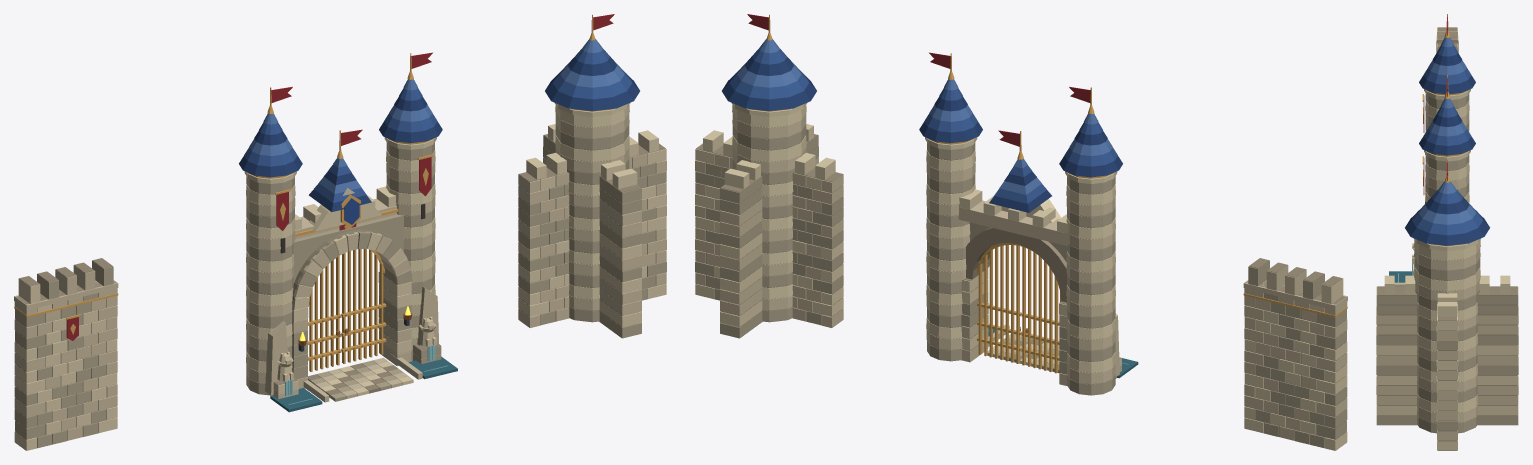
File: muralhas-nivel-10.glb
The picture shows the model from 3 angles, left to right: view 1: azimuth 30°, elevation 25°; view 2: azimuth 150°, elevation 25°; view 3: azimuth 270°, elevation 25°; orthographic projection. The views are drawn at different scales.
Visible parts, largest first — view 1: gate_10_ded0ad, tower_10_ded0ad, gate_10_b4a98f, gate_10_cfc1a3, tower_10_cfc1a3, tower_10_b4a98f, wall_10_cfc1a3, wall_10_b4a98f, wall_10_ded0ad, right_10_dba85a, gate_10_26406e, gate_10_9a8d77 (+11 smaller); view 2: tower_10_ded0ad, tower_10_cfc1a3, tower_10_b4a98f, gate_10_ded0ad, gate_10_cfc1a3, gate_10_b4a98f, wall_10_cfc1a3, wall_10_b4a98f, wall_10_ded0ad, right_10_dba85a, gate_10_9a8d77, left_10_dba85a (+9 smaller); view 3: tower_10_cfc1a3, tower_10_ded0ad, tower_10_b4a98f, tower_10_9a8d77, gate_10_26406e, tower_10_26406e, gate_10_385a91, gate_10_ded0ad, tower_10_385a91, gate_10_b4a98f, gate_10_5274a7, tower_10_5274a7 (+5 smaller).
Part boxes in pixels (<box>): gate_10_ded0ad: <box>244,137,436,396</box>; tower_10_ded0ad: <box>518,102,666,327</box>; gate_10_b4a98f: <box>246,142,441,401</box>; gate_10_cfc1a3: <box>246,162,438,402</box>; tower_10_cfc1a3: <box>518,113,666,327</box>; tower_10_b4a98f: <box>518,124,666,338</box>; wall_10_cfc1a3: <box>14,265,118,440</box>; wall_10_b4a98f: <box>14,258,113,448</box>; wall_10_ded0ad: <box>14,278,117,450</box>; right_10_dba85a: <box>341,249,386,363</box>; gate_10_26406e: <box>239,96,442,211</box>; gate_10_9a8d77: <box>250,155,440,397</box>; tower_10_ded0ad: <box>695,102,843,327</box>; tower_10_cfc1a3: <box>695,113,843,327</box>; tower_10_b4a98f: <box>695,124,843,338</box>; gate_10_ded0ad: <box>925,137,1121,373</box>; gate_10_cfc1a3: <box>926,162,1121,386</box>; gate_10_b4a98f: <box>927,142,1115,395</box>; wall_10_cfc1a3: <box>1243,265,1347,440</box>; wall_10_b4a98f: <box>1248,258,1347,448</box>; wall_10_ded0ad: <box>1244,278,1347,450</box>; right_10_dba85a: <box>977,243,1021,363</box>; gate_10_9a8d77: <box>930,155,1120,395</box>; left_10_dba85a: <box>1020,245,1061,373</box>; tower_10_cfc1a3: <box>1376,248,1518,440</box>; tower_10_ded0ad: <box>1376,238,1518,450</box>; tower_10_b4a98f: <box>1376,257,1518,432</box>; tower_10_9a8d77: <box>1377,258,1517,450</box>; gate_10_26406e: <box>1419,53,1475,155</box>; tower_10_26406e: <box>1405,196,1489,245</box>; gate_10_385a91: <box>1423,45,1471,145</box>; gate_10_ded0ad: <box>1412,89,1470,275</box>; tower_10_385a91: <box>1412,190,1482,235</box>; gate_10_b4a98f: <box>1425,93,1469,196</box>; gate_10_5274a7: <box>1428,37,1466,136</box>; tower_10_5274a7: <box>1418,181,1476,224</box>.
Size of the model in its own units: 27.99 by 12.46 by 6.02.
